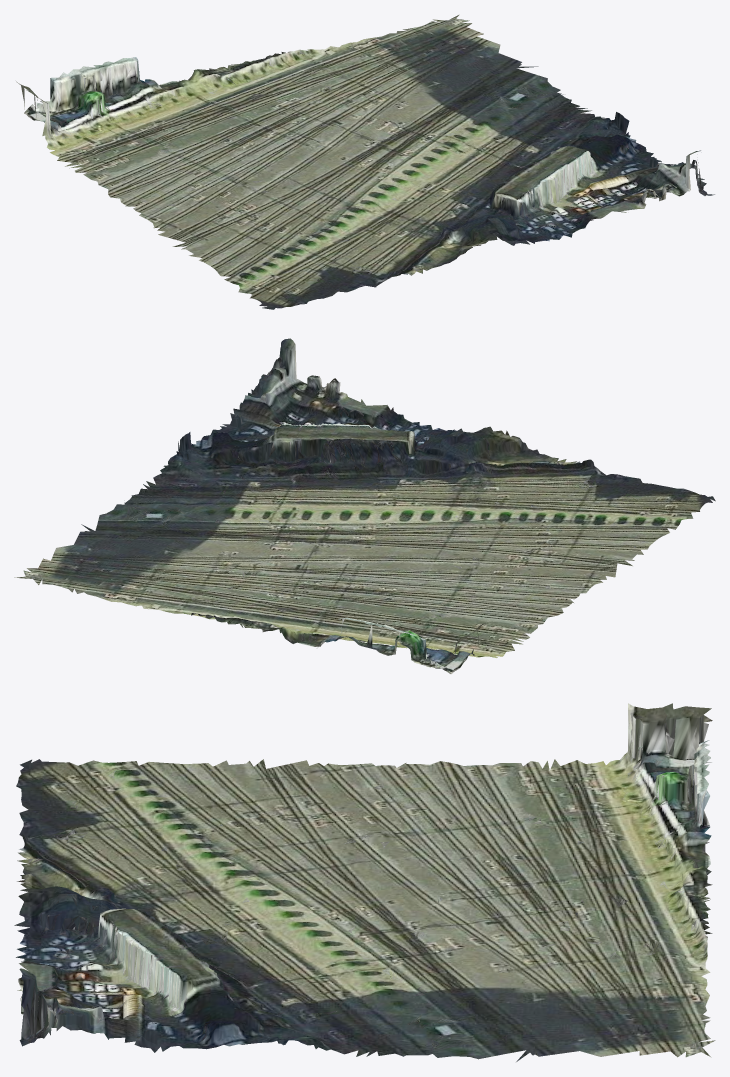
File: Tile_002_003_L14_411.glb
3 renders of one model, top to bottom at view 1: azimuth 30°, elevation 25°; view 2: azimuth 150°, elevation 25°; view 3: azimuth 270°, elevation 25°, orthographic. The views are drawn at different scales.
Parts seen in each view (by area): view 1: rtc; view 2: rtc; view 3: rtc.
Part boxes in pixels (x1,y1,x2,y2): rtc: [16, 14, 714, 309]; rtc: [14, 338, 715, 673]; rtc: [14, 703, 715, 1061].
Bounding box in the file's own units: 142 × 17.59 × 139.
Materials: 1 (1 with a texture image).
